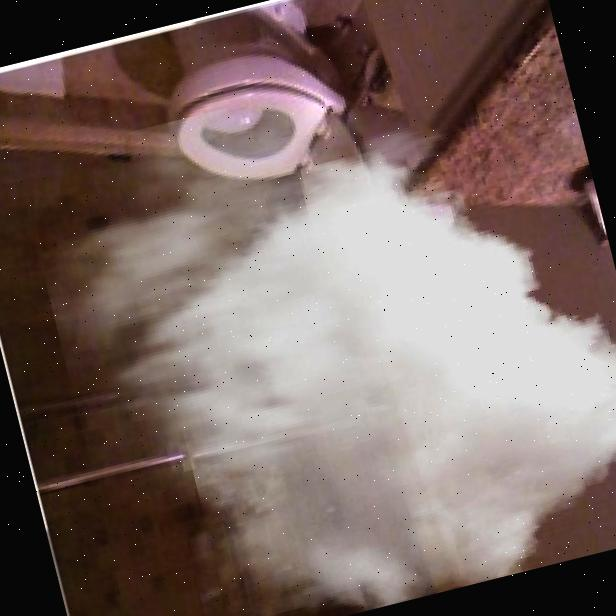smoke: (15, 26, 616, 616)
